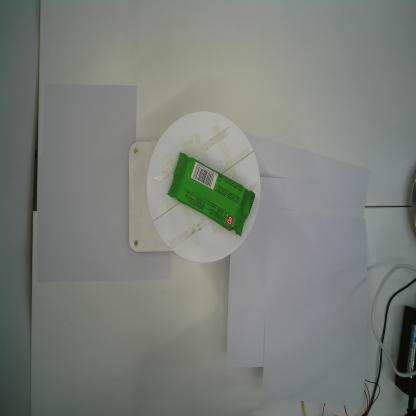Dessert: (167, 152, 255, 236)
